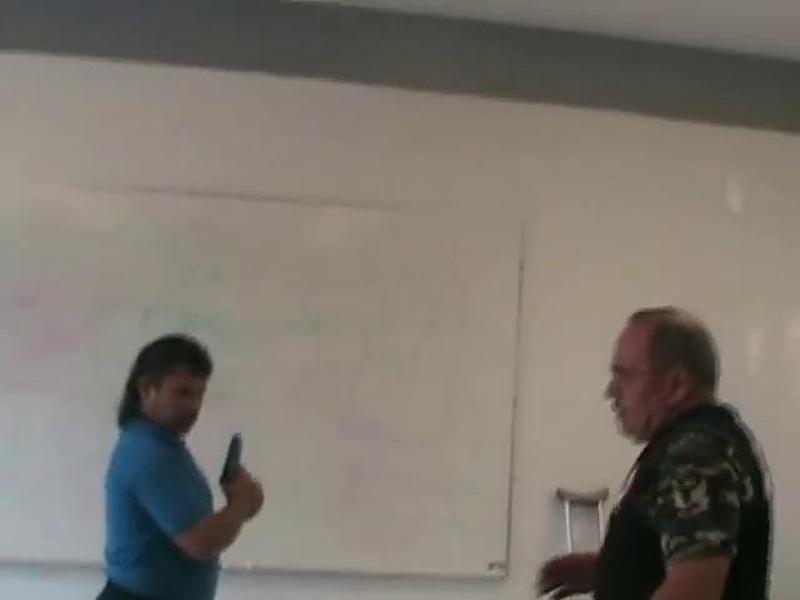Pistola: (217, 424, 277, 524)
